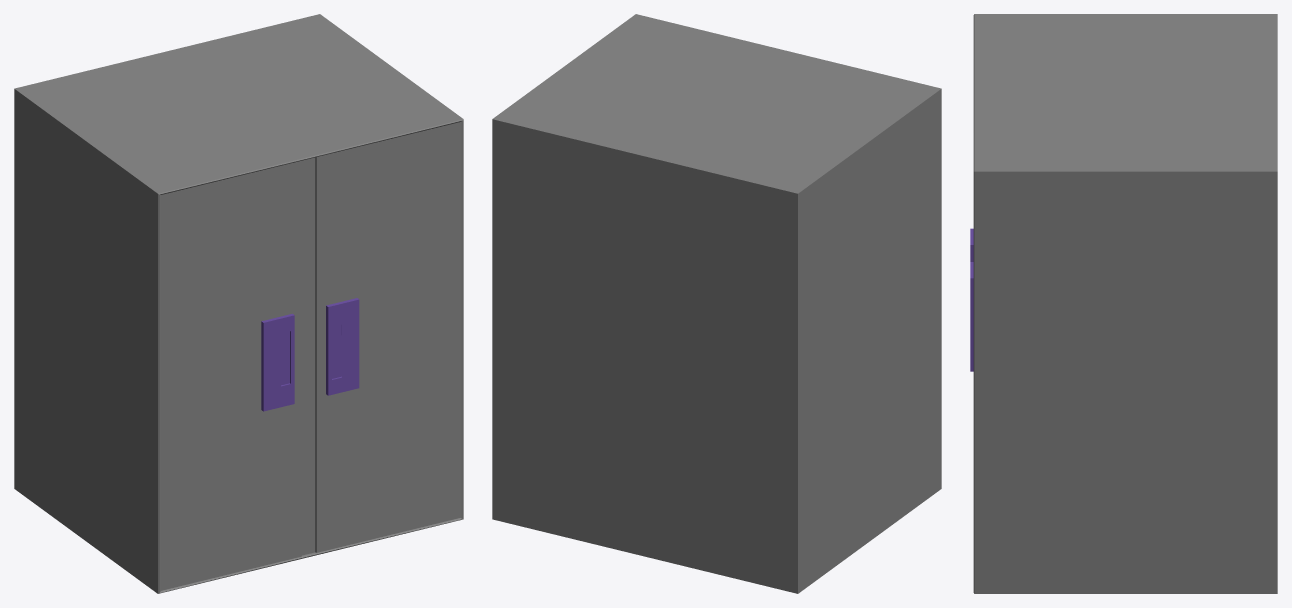
File: counter.fbx
3 views of the same model, side by side, from view 1: azimuth 30°, elevation 25°; view 2: azimuth 150°, elevation 25°; view 3: azimuth 270°, elevation 25° (orthographic). The views are drawn at different scales.
Parts seen in each view (by area): view 1: pCube4; view 2: pCube4; view 3: pCube4.
Boxes of the visible parts, bbox=[...] form: pCube4: bbox=[14, 14, 463, 593]; pCube4: bbox=[492, 14, 941, 593]; pCube4: bbox=[970, 14, 1277, 593].
Bounding box in the file's own units: 2.57 × 3.21 × 2.12.
